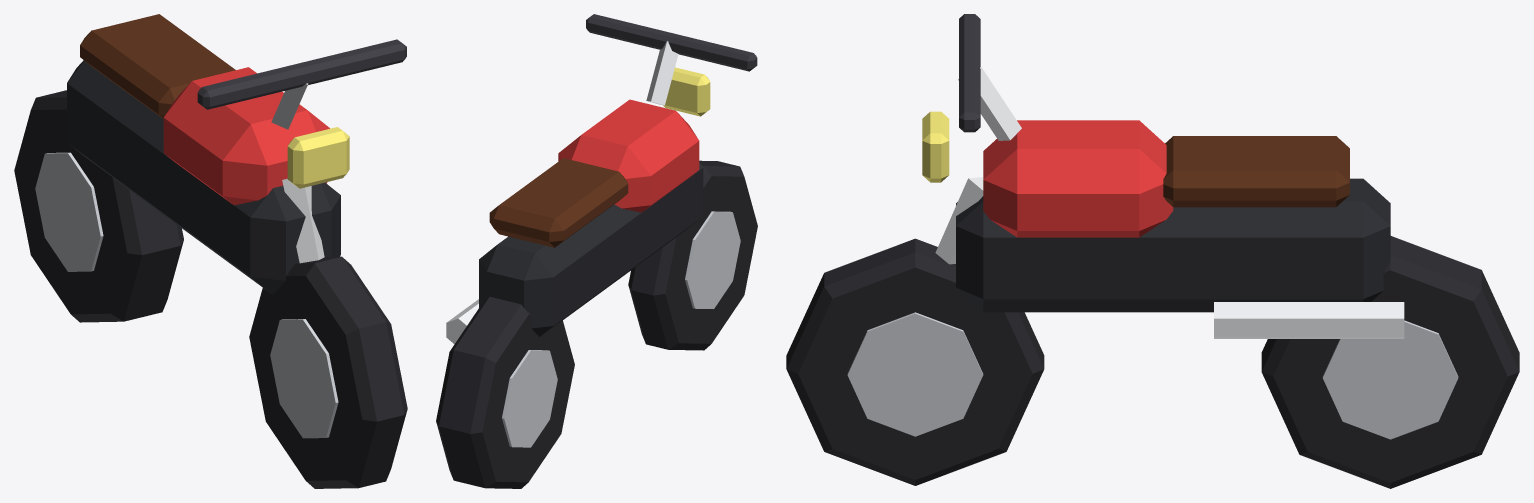
The model's file is Motorcycle.fbx.
3 renders of one model, left to right at view 1: azimuth 30°, elevation 25°; view 2: azimuth 150°, elevation 25°; view 3: azimuth 270°, elevation 25°, orthographic. The views are drawn at different scales.
Parts seen in each view (by area): view 1: Motorcycle, Motorcycle_WheelF, Motorcycle_WheelB; view 2: Motorcycle, Motorcycle_WheelB, Motorcycle_WheelF; view 3: Motorcycle, Motorcycle_WheelF, Motorcycle_WheelB.
Boxes of the visible parts, bbox=[...] form: Motorcycle: bbox=[67, 14, 406, 294]; Motorcycle_WheelF: bbox=[249, 256, 407, 488]; Motorcycle_WheelB: bbox=[14, 90, 183, 322]; Motorcycle: bbox=[446, 14, 757, 343]; Motorcycle_WheelB: bbox=[436, 297, 574, 488]; Motorcycle_WheelF: bbox=[628, 160, 757, 350]; Motorcycle: bbox=[922, 14, 1404, 338]; Motorcycle_WheelF: bbox=[786, 238, 1044, 485]; Motorcycle_WheelB: bbox=[1261, 236, 1519, 488].
Size of the model in its own units: 1.8 by 3.38 by 5.4.
1 material, 1 textured.
